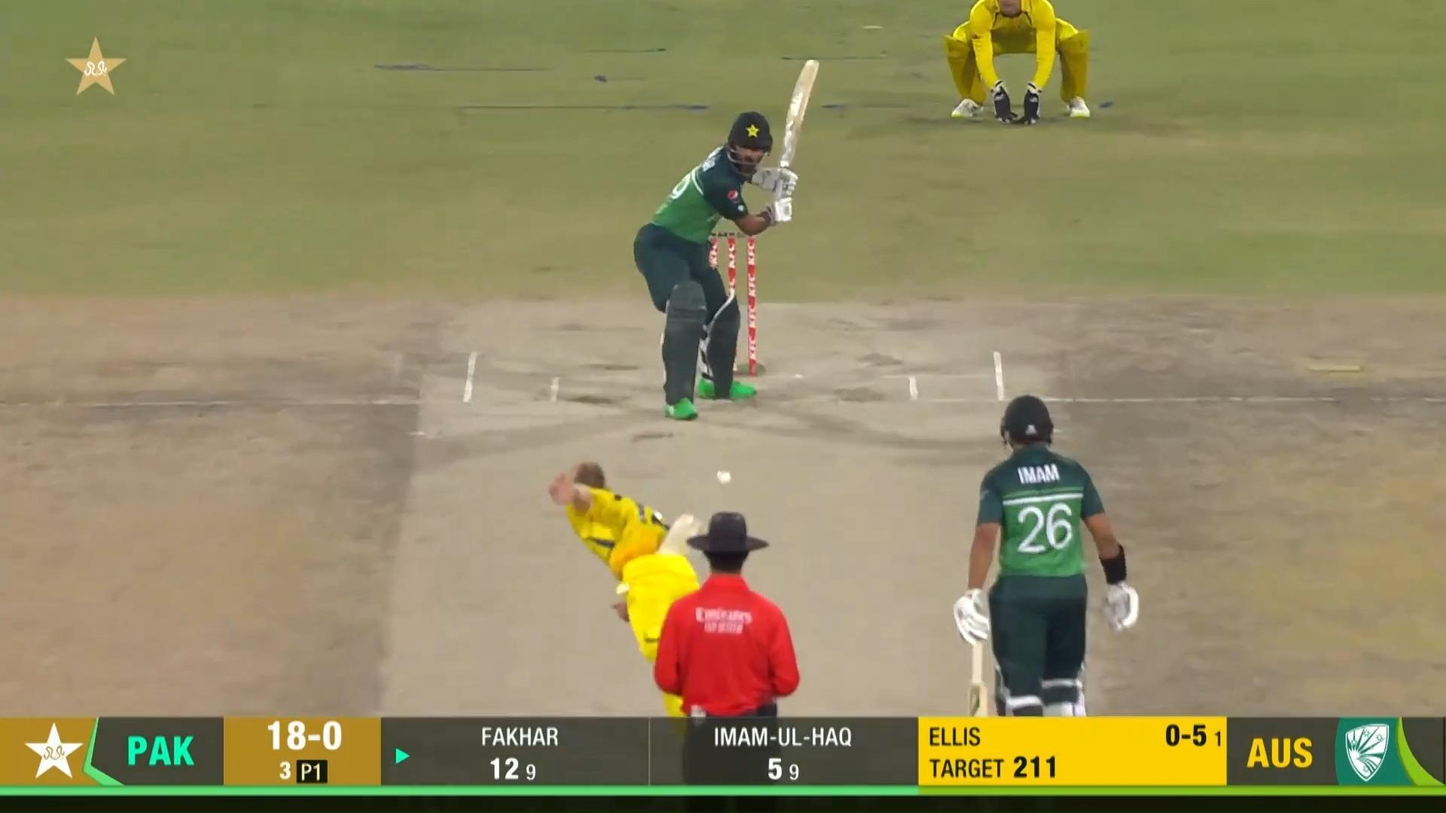BM 1: (631, 56, 825, 424)
BO: (546, 459, 740, 753)
